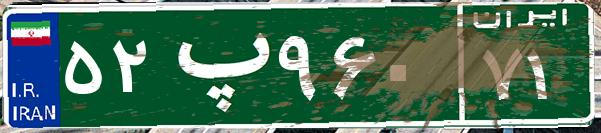0: (385, 28, 445, 110)
1: (525, 38, 570, 115)
2: (110, 28, 158, 105)
5: (57, 26, 110, 107)
6: (330, 28, 385, 110)
7: (475, 38, 525, 113)
9: (273, 28, 330, 110)
پ: (158, 15, 273, 115)
